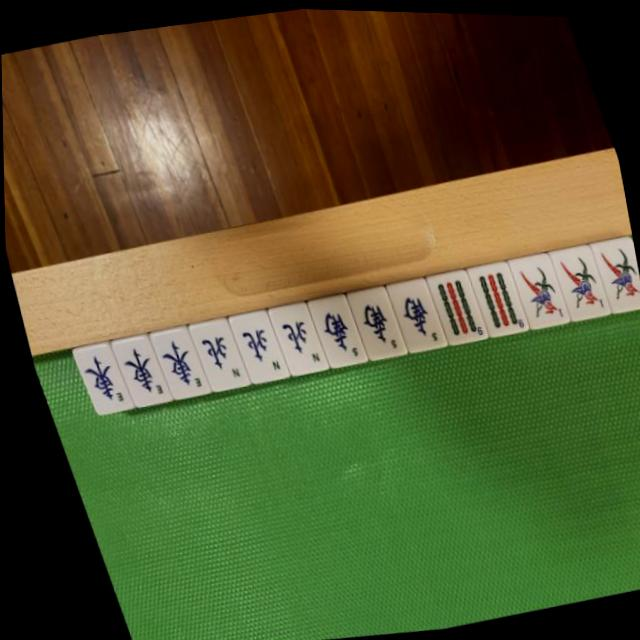hwe: (144, 323, 205, 403), (68, 340, 128, 420), (106, 332, 166, 412)
hwn: (222, 305, 285, 386), (183, 316, 245, 395), (262, 298, 322, 377)
hws: (341, 281, 403, 362), (302, 291, 363, 370), (382, 274, 442, 353)
sb1: (544, 239, 606, 318), (504, 247, 565, 326), (587, 229, 640, 311)
sb9: (422, 263, 483, 345), (463, 256, 524, 337)
